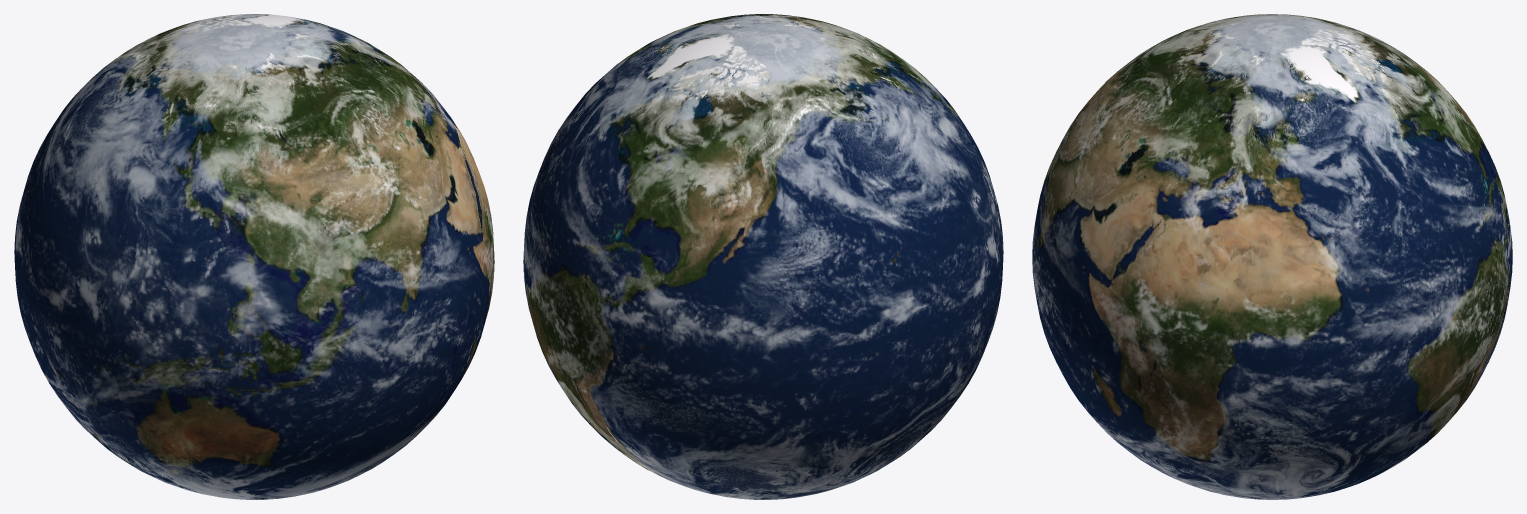
Rendered from earth2.obj.
3 renders of one model, left to right at view 1: azimuth 30°, elevation 25°; view 2: azimuth 150°, elevation 25°; view 3: azimuth 270°, elevation 25°, orthographic.
Bounding box in the file's own units: 4.92 × 4.97 × 4.92.
